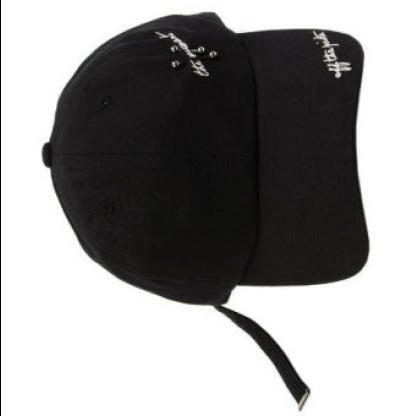cap: (25, 8, 370, 322)
